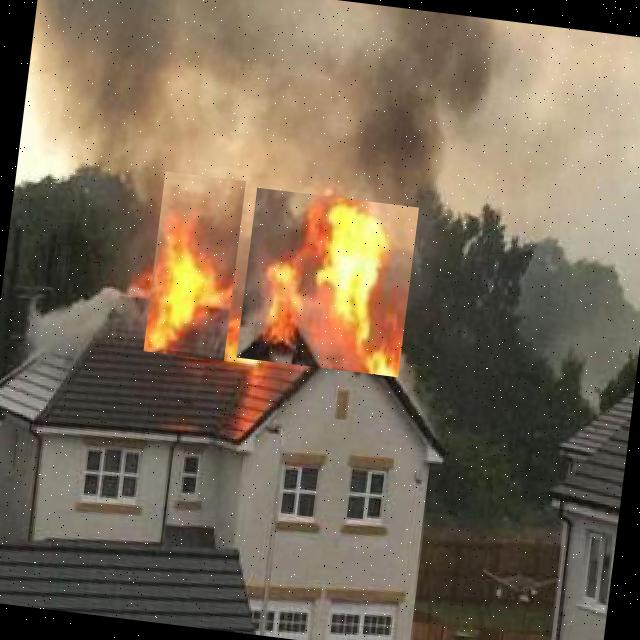fire: (236, 187, 418, 377), (143, 171, 245, 361)
